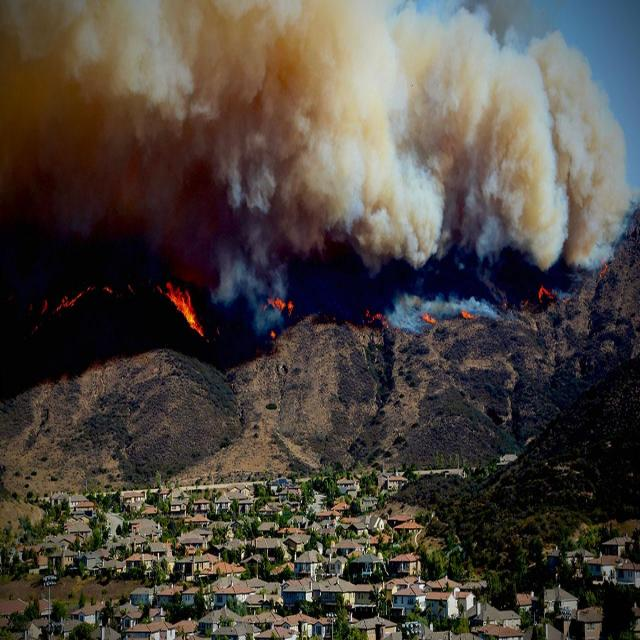fire: (158, 281, 202, 338), (262, 294, 294, 318), (364, 307, 392, 334), (537, 282, 550, 302), (420, 311, 437, 326), (460, 308, 472, 319)
